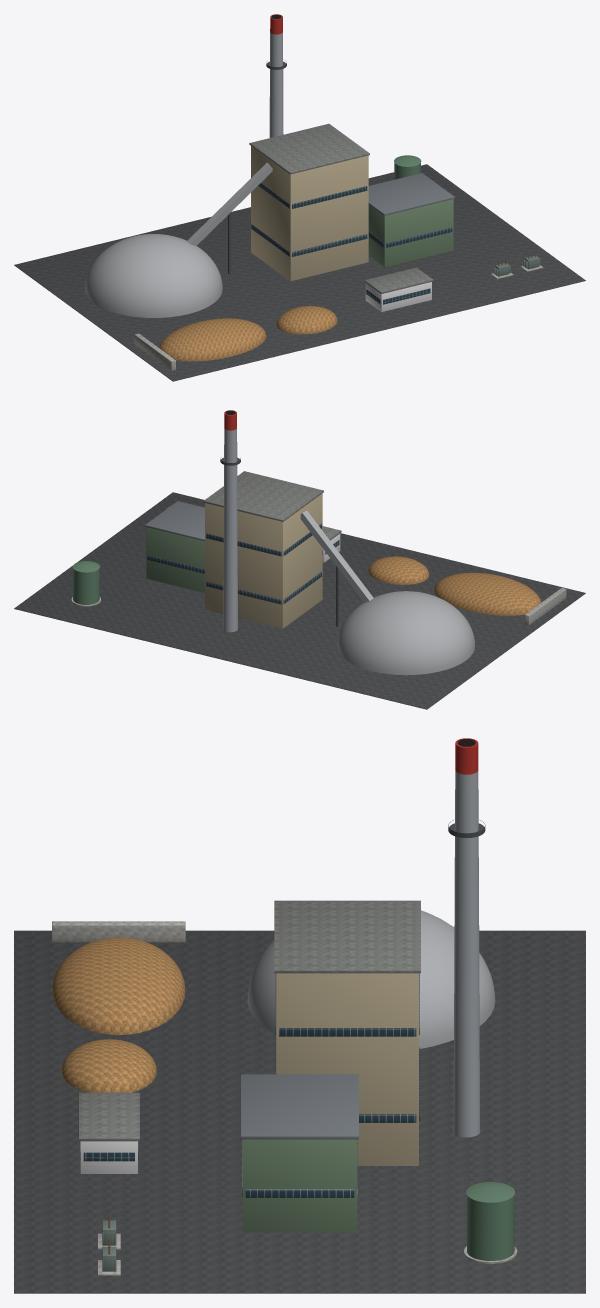
Rendered from biomass-power-plant.glb.
3 renders of one model, top to bottom at view 1: azimuth 30°, elevation 25°; view 2: azimuth 150°, elevation 25°; view 3: azimuth 270°, elevation 25°, orthographic. The views are drawn at different scales.
Parts seen in each view (by area): view 1: Biomass_Power_Plant; view 2: Biomass_Power_Plant; view 3: Biomass_Power_Plant.
Part boxes in pixels (bbox=[...]): Biomass_Power_Plant: bbox=[14, 14, 585, 381]; Biomass_Power_Plant: bbox=[14, 410, 585, 709]; Biomass_Power_Plant: bbox=[14, 738, 585, 1293].
Bounding box in the file's own units: 180 × 90.3 × 120.
Materials: 17 (10 with a texture image).
